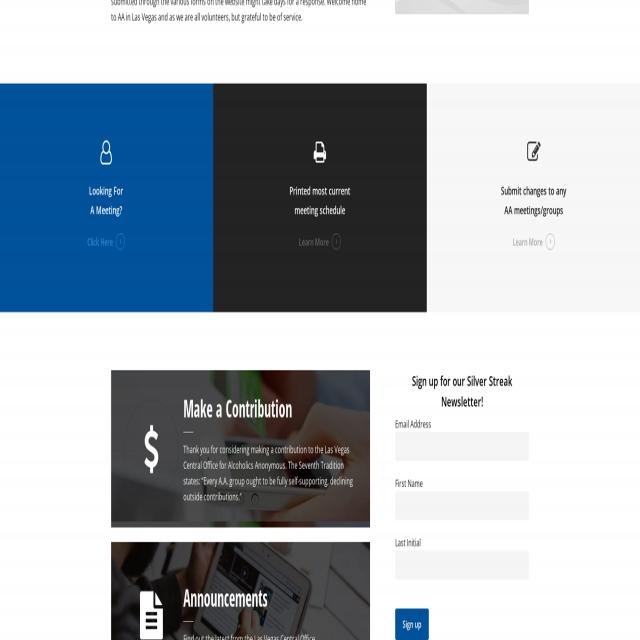button: (426, 84, 640, 312), (212, 84, 426, 312), (0, 83, 212, 312), (112, 371, 370, 526), (111, 543, 370, 640), (396, 609, 429, 640)
field: (395, 550, 529, 580), (395, 432, 529, 461), (395, 492, 529, 520)
